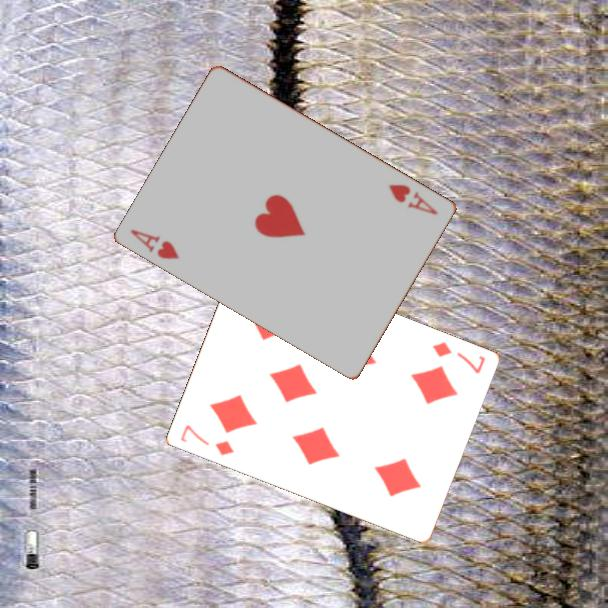d07: (428, 338, 488, 377), (176, 421, 237, 459)
h01: (385, 180, 441, 218), (127, 226, 183, 262)
